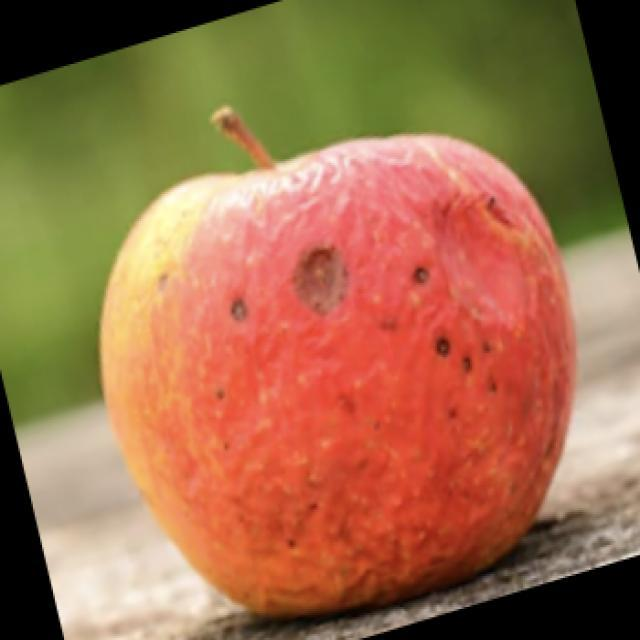Rotten: (57, 137, 593, 615)
